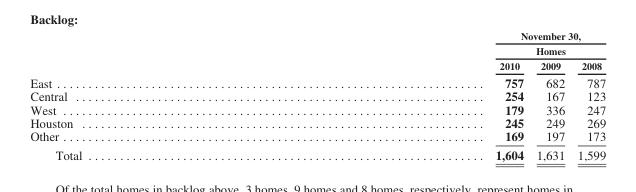table: (29, 29, 605, 161)
table column: (29, 29, 288, 161), (288, 29, 529, 161), (529, 29, 570, 161), (570, 29, 605, 161)
table column header: (29, 29, 605, 73)
table row: (29, 29, 605, 57), (29, 144, 605, 161), (29, 57, 605, 73), (29, 73, 605, 89), (29, 129, 605, 144), (29, 115, 605, 129), (29, 89, 605, 102), (29, 102, 605, 115)
table spanning cell: (288, 29, 605, 57)
